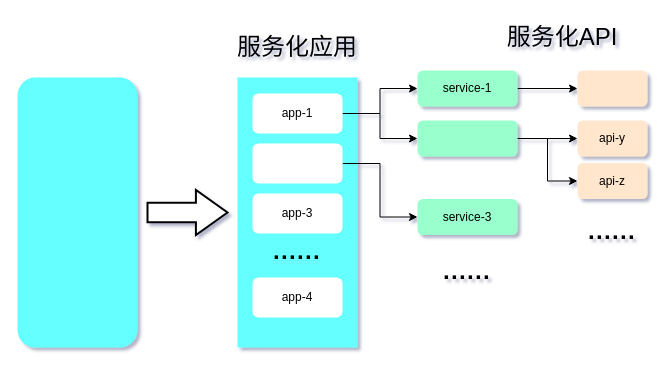
Image size: 670x370. Some labels were removed from this diagram. Each missing label, with the box of its shape:
api-x: (577, 70, 647, 106)
app-2: (252, 143, 342, 183)
service-2: (417, 120, 517, 156)
单体工程: (17, 77, 137, 347)
